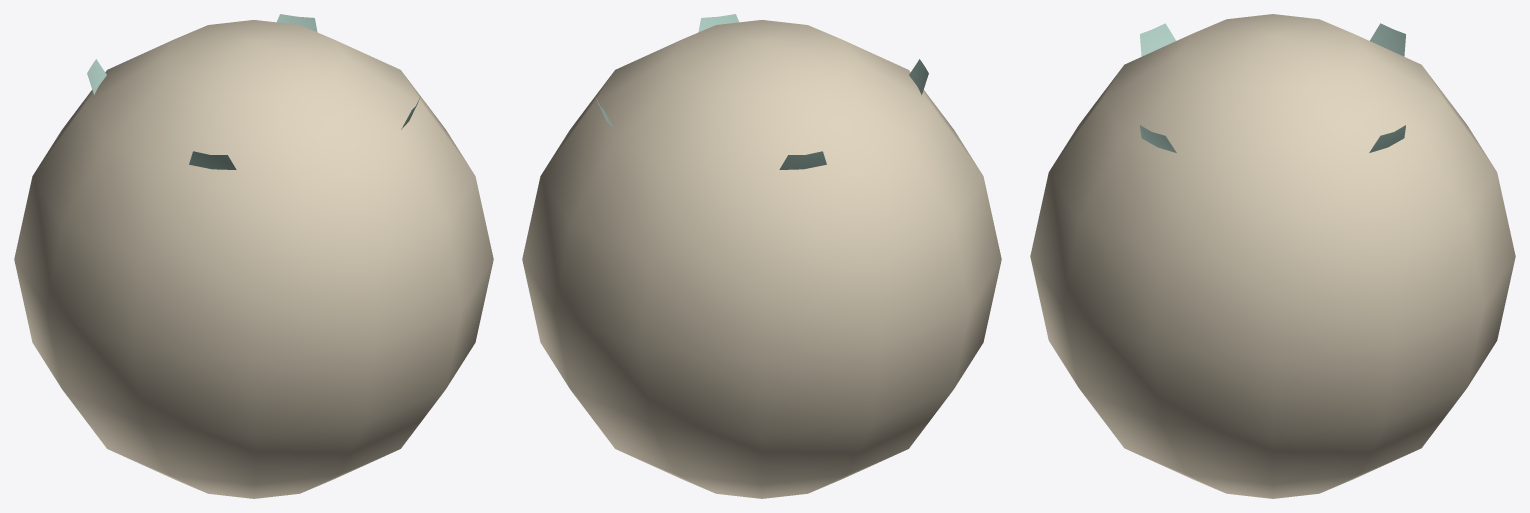
File: faelight_orb.glb
3 renders of one model, left to right at view 1: azimuth 30°, elevation 25°; view 2: azimuth 150°, elevation 25°; view 3: azimuth 270°, elevation 25°, orthographic.
Parts seen in each view (by area): view 1: faelight_orb; view 2: faelight_orb; view 3: faelight_orb.
Part boxes in pixels (box(x1,y1,x2,y2)): faelight_orb: box(14, 14, 493, 498); faelight_orb: box(522, 14, 1001, 498); faelight_orb: box(1030, 14, 1515, 498).
Size of what is drawn, in the model's own units: 0.3 by 0.3 by 0.3.
